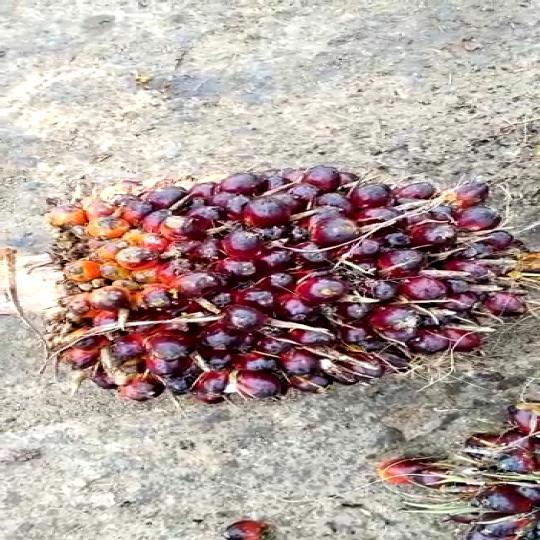kurang masak: (44, 144, 540, 406)
